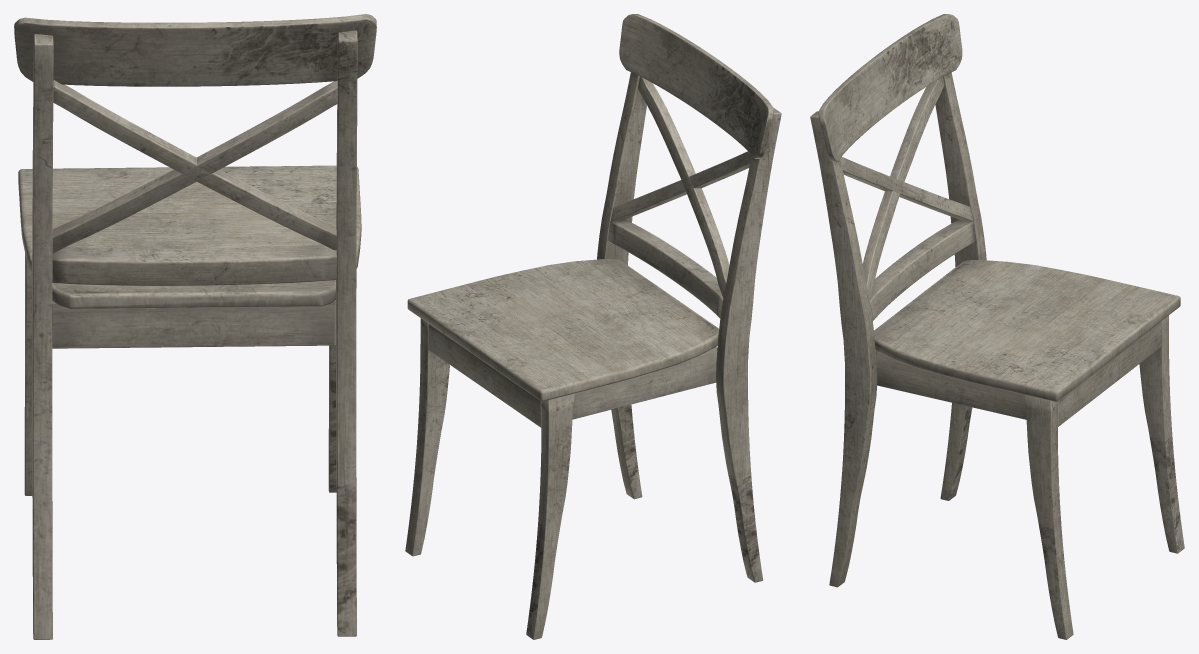
3 views of the same model, side by side, from view 1: azimuth 30°, elevation 25°; view 2: azimuth 150°, elevation 25°; view 3: azimuth 270°, elevation 25° (orthographic). The views are drawn at different scales.
Visible parts, largest first — view 1: Object_2; view 2: Object_2; view 3: Object_2.
Boxes of the visible parts, box(x1,y1,x2,y2) form: Object_2: box(14, 14, 376, 639); Object_2: box(405, 14, 781, 639); Object_2: box(810, 14, 1184, 639).
Size of the model in its own units: 4.67 by 6.77 by 4.82.
1 material, 1 textured.
